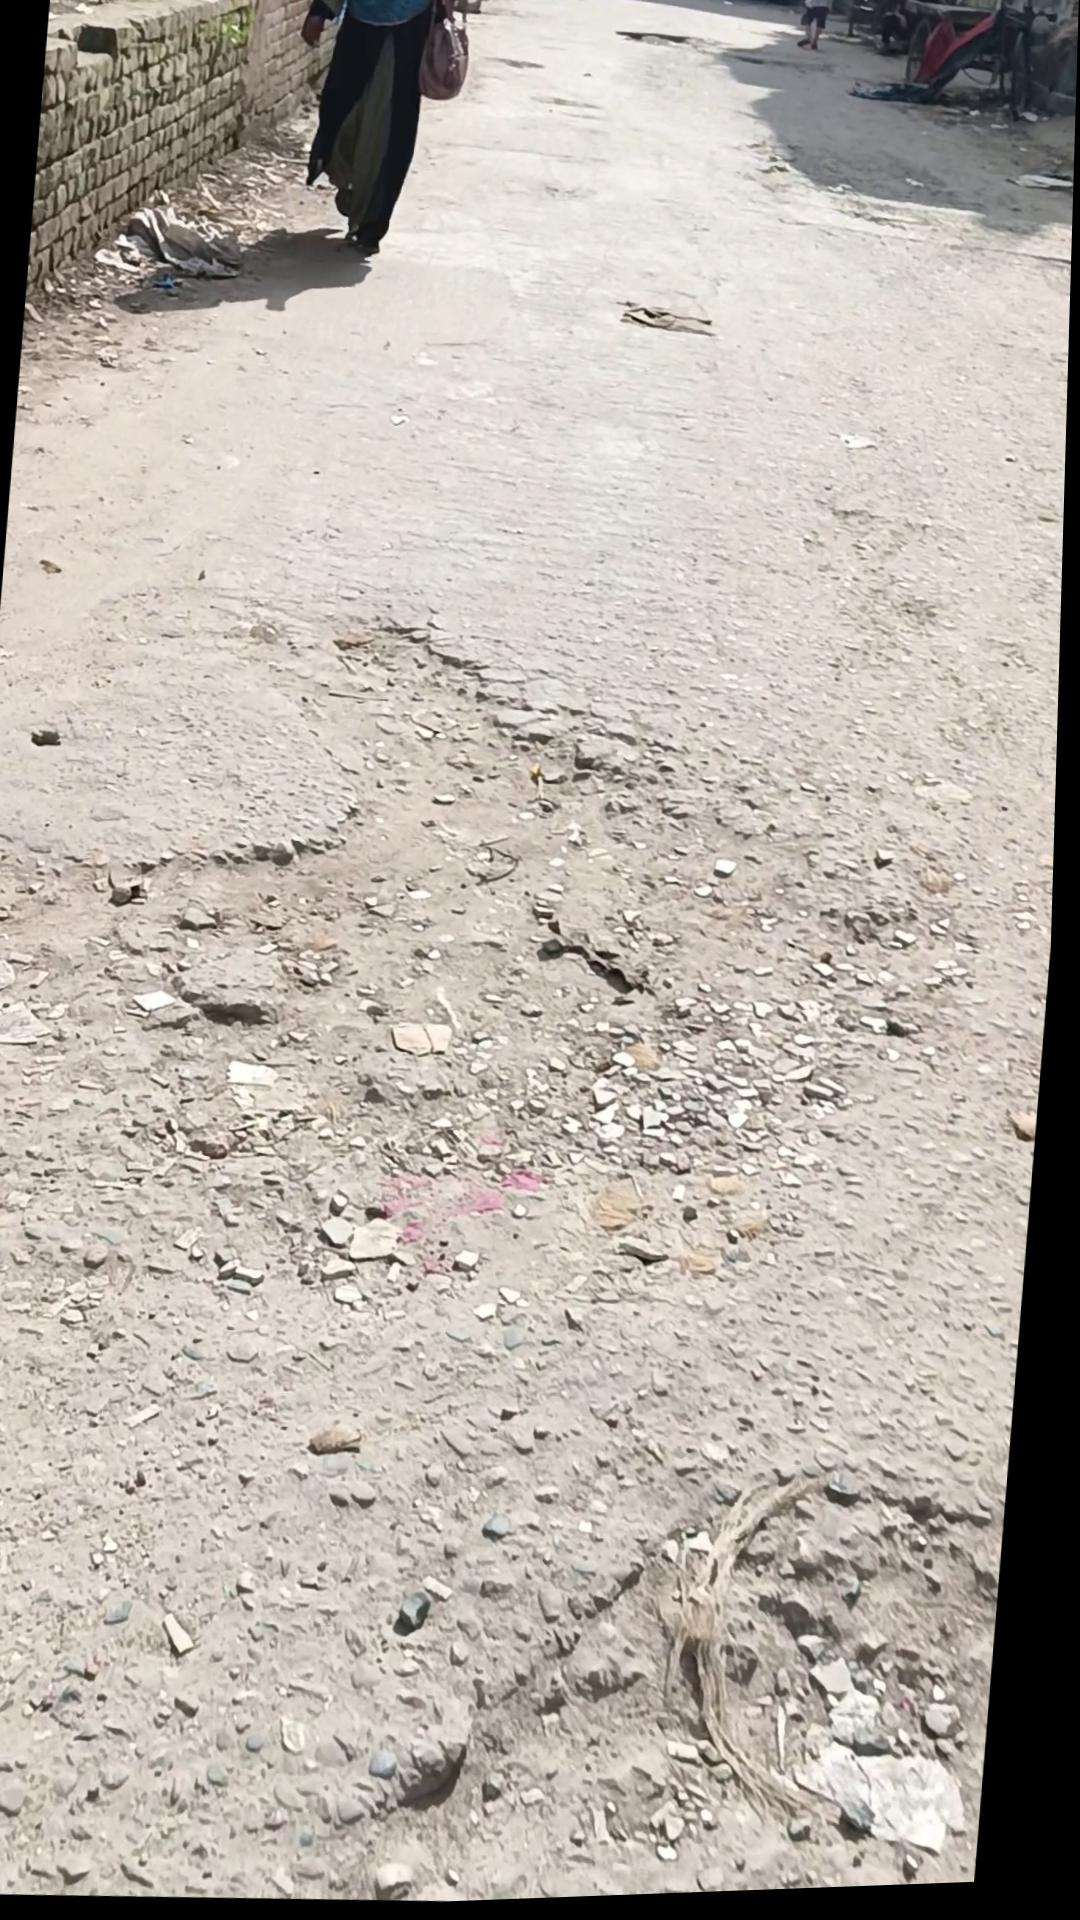Broken-road: (0, 0, 1080, 1920)
Muddy road: (282, 0, 469, 264), (794, 0, 836, 58)
Tree: (26, 0, 342, 320)
